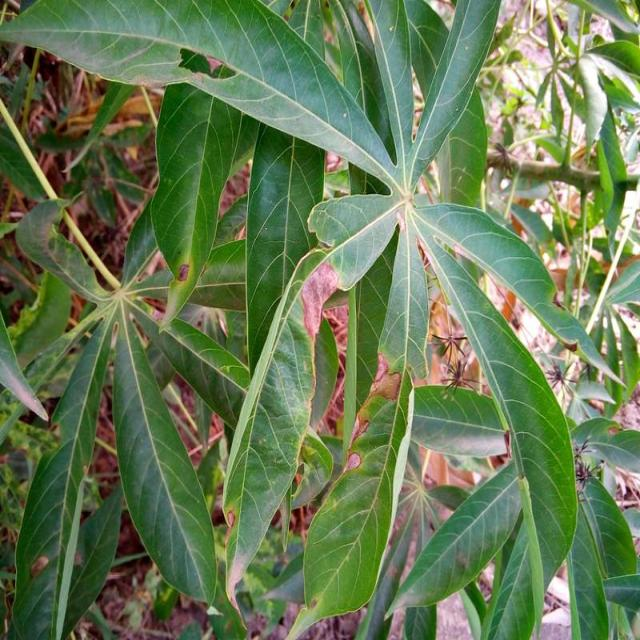cassava leaf: (2, 0, 599, 638), (0, 0, 400, 188)
